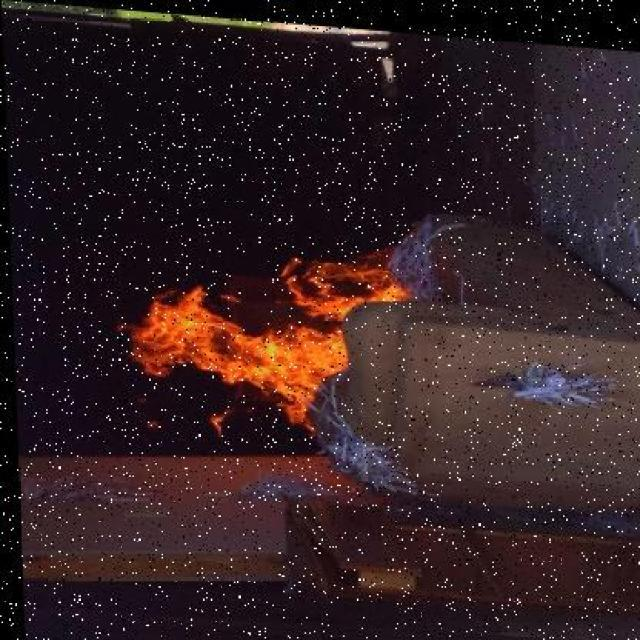Fire: (116, 246, 402, 420)
